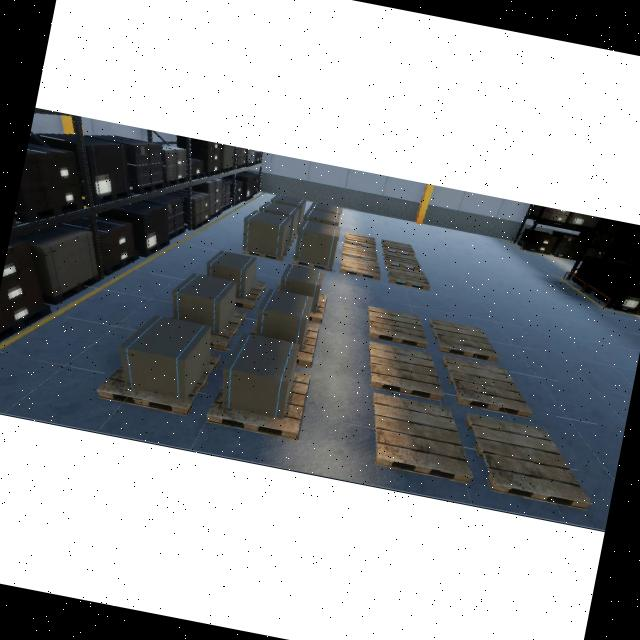wooden_pallet: (464, 414, 594, 511), (371, 393, 472, 485), (96, 354, 220, 416), (206, 372, 310, 440), (441, 356, 534, 419), (368, 343, 444, 402), (429, 318, 499, 363), (367, 306, 427, 349), (211, 310, 247, 352), (386, 266, 430, 290), (296, 323, 318, 368), (340, 257, 380, 281), (242, 242, 292, 261), (235, 280, 266, 310), (383, 251, 420, 271), (291, 254, 332, 271), (381, 239, 415, 257), (309, 293, 327, 324)
